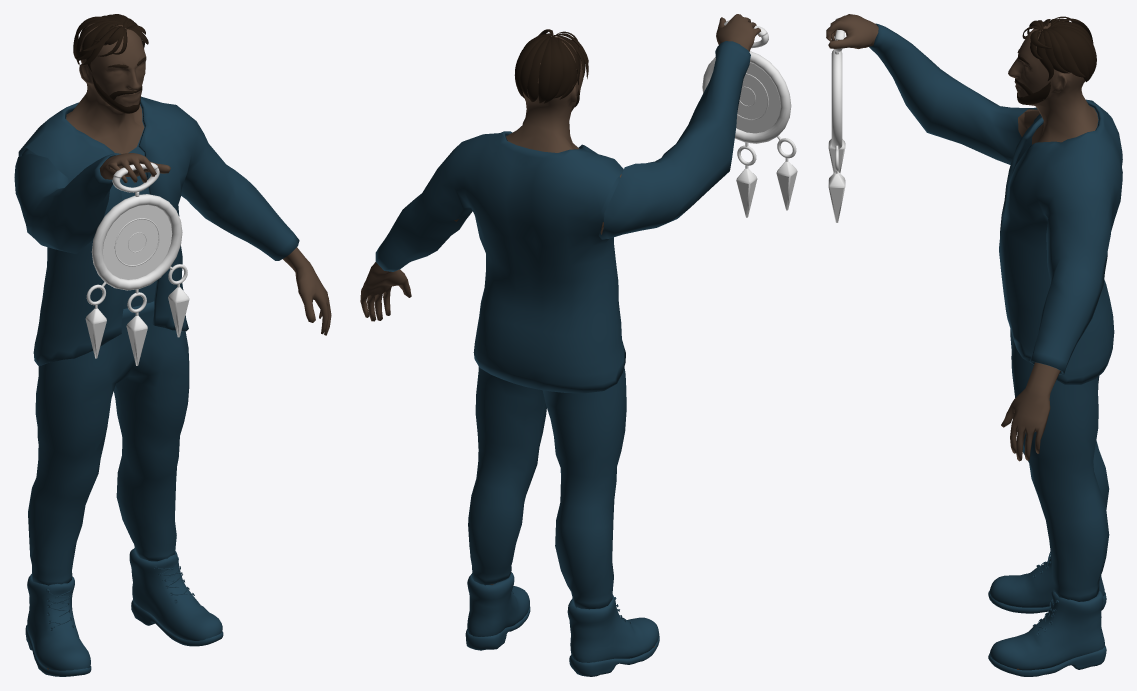
Rendered from Jim_ArmOut.fbx.
The picture shows the model from 3 angles, left to right: view 1: azimuth 30°, elevation 25°; view 2: azimuth 150°, elevation 25°; view 3: azimuth 270°, elevation 25°; orthographic projection.
Parts seen in each view (by area): view 1: Clothing.001, Jim.001, Arm.001, Catcher, Glass; view 2: Clothing.001, Arm.001, Jim.001, Catcher, Glass; view 3: Clothing.001, Jim.001, Arm.001, Catcher.
Part boxes in pixels (bbox=[...]): Clothing.001: bbox=[18, 96, 299, 676]; Jim.001: bbox=[47, 14, 331, 669]; Arm.001: bbox=[14, 153, 170, 253]; Catcher: bbox=[85, 162, 189, 365]; Glass: bbox=[103, 205, 172, 279]; Clothing.001: bbox=[375, 131, 659, 676]; Arm.001: bbox=[601, 14, 760, 238]; Jim.001: bbox=[360, 29, 654, 647]; Catcher: bbox=[702, 20, 797, 217]; Glass: bbox=[736, 62, 780, 133]; Clothing.001: bbox=[988, 99, 1122, 676]; Jim.001: bbox=[1001, 16, 1098, 669]; Arm.001: bbox=[826, 14, 1039, 164]; Catcher: bbox=[828, 18, 845, 222].
Bounding box in the file's own units: 1.09 × 1.9 × 0.8302.
